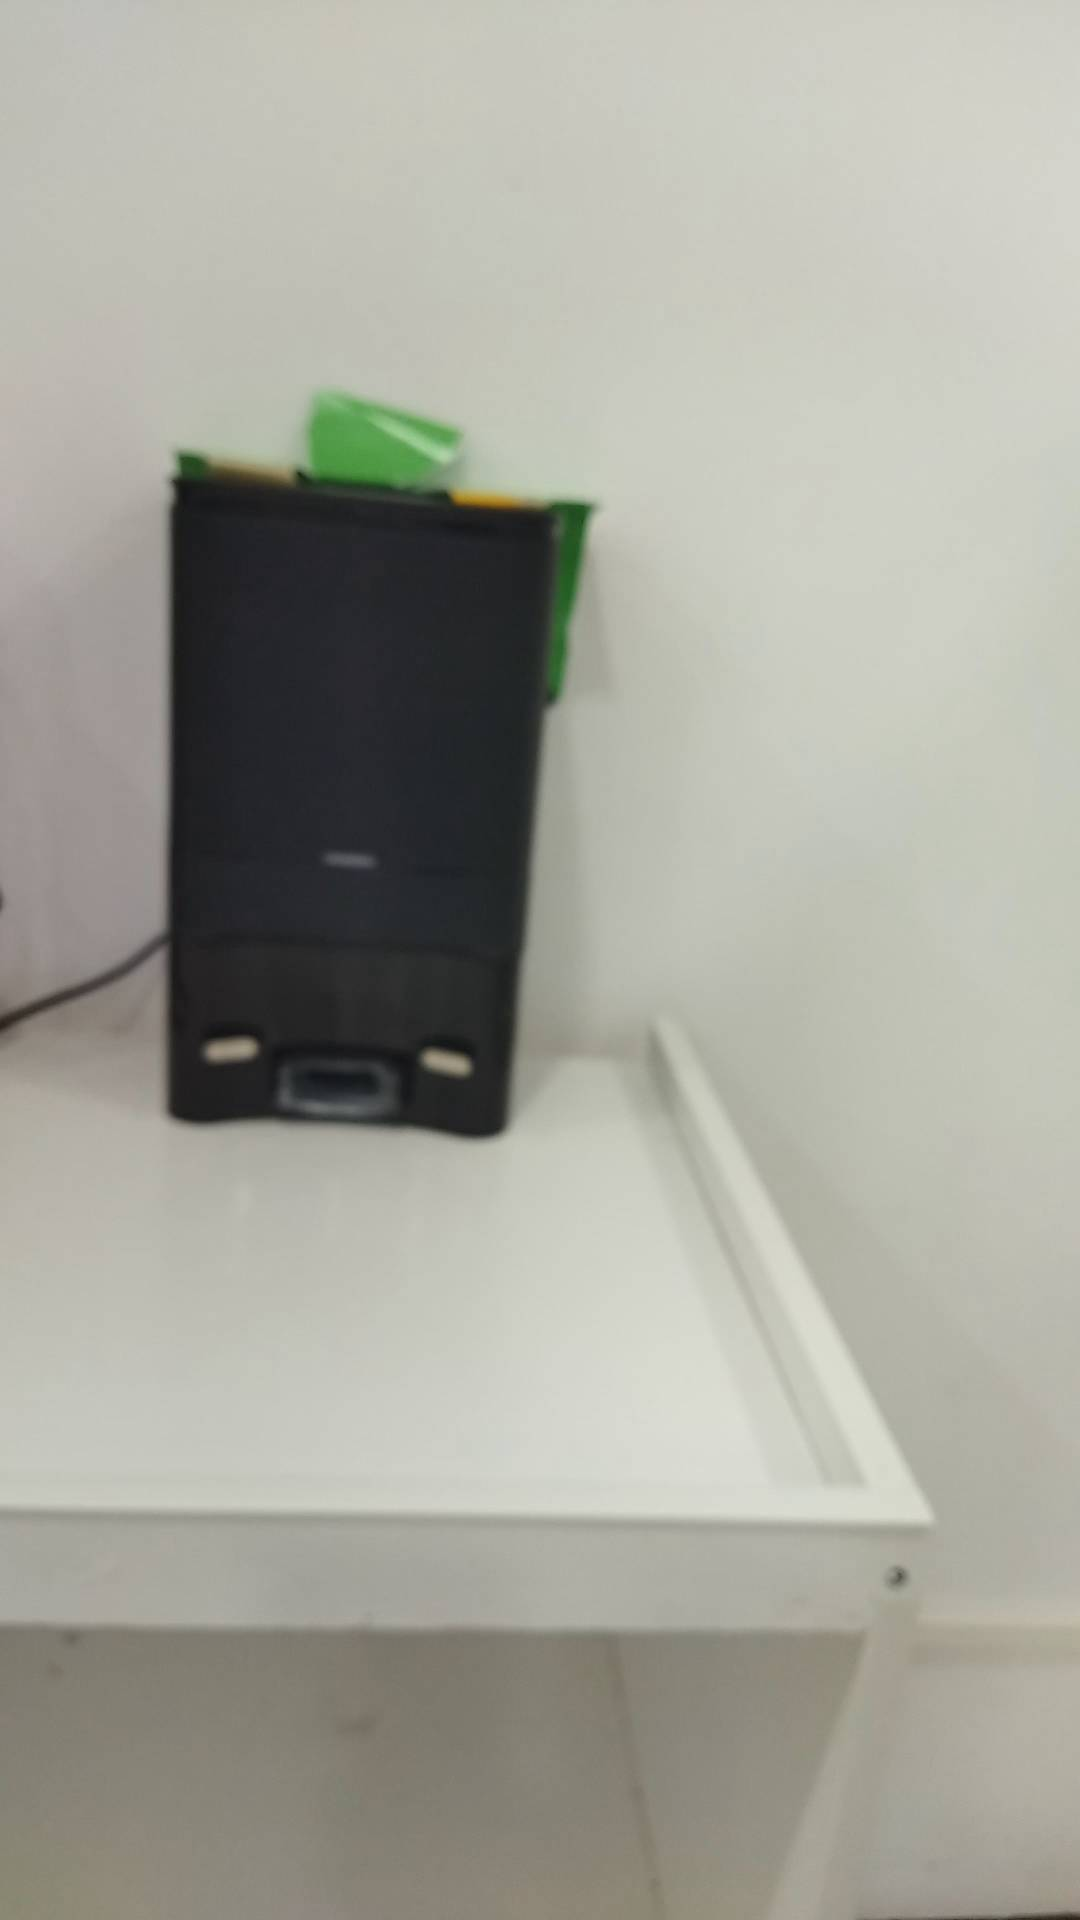dust collecting barrel: (164, 469, 560, 1143)
